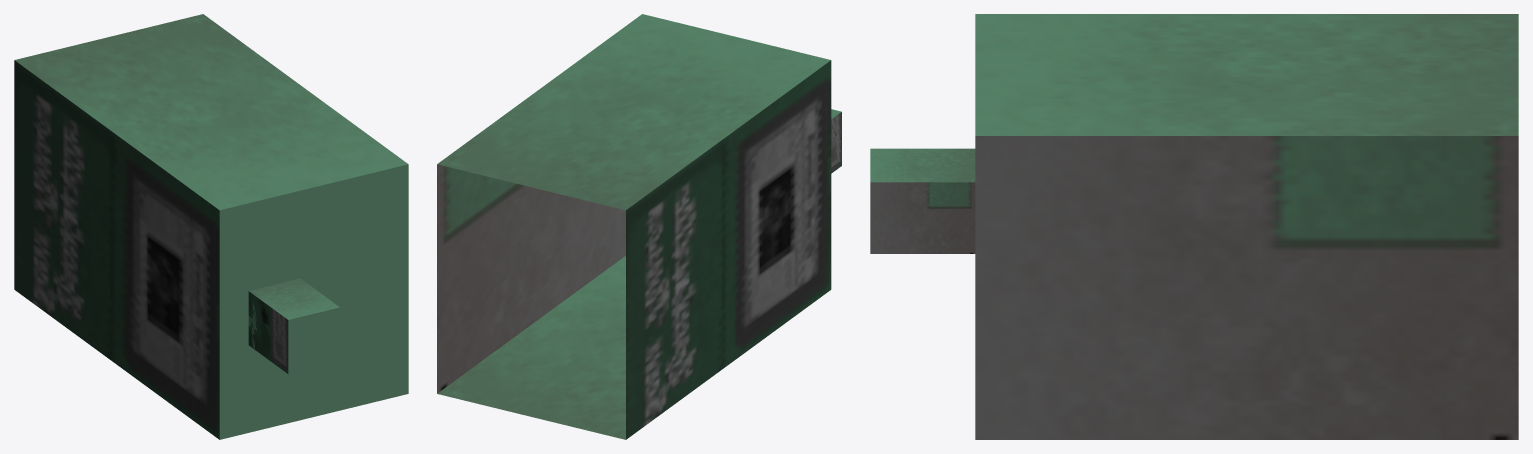
The model's file is pz_native_street_decoration_01_94.obj.
3 views of the same model, side by side, from view 1: azimuth 30°, elevation 25°; view 2: azimuth 150°, elevation 25°; view 3: azimuth 270°, elevation 25° (orthographic). The views are drawn at different scales.
Parts seen in each view (by area): view 1: pz_native_street_decoration_01_94; view 2: pz_native_street_decoration_01_94; view 3: pz_native_street_decoration_01_94.
Boxes of the visible parts, bbox=[...] form: pz_native_street_decoration_01_94: bbox=[14, 14, 408, 439]; pz_native_street_decoration_01_94: bbox=[437, 14, 841, 439]; pz_native_street_decoration_01_94: bbox=[870, 14, 1518, 439].
Bounding box in the file's own units: 0.6723 × 0.7808 × 1.51.
Materials: 1 (1 with a texture image).
